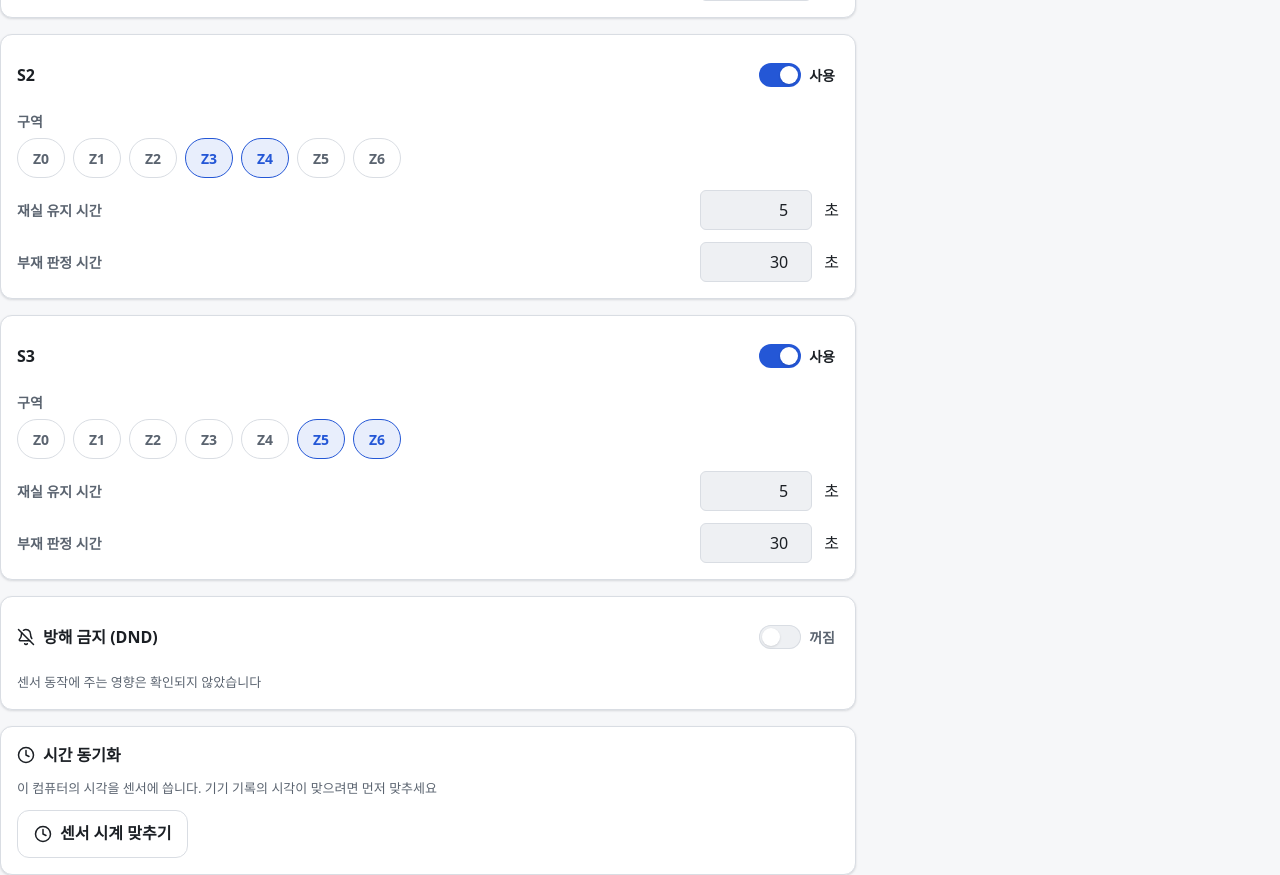
Test: AdvancedTab › time sync is an action: it posts and shows the result
This screenshot has width=1280, height=875.
(page scrolled)
Click the button "센서 시계 맞추기".
click(103, 834)  # box x1=17 y1=810 x2=188 y2=858
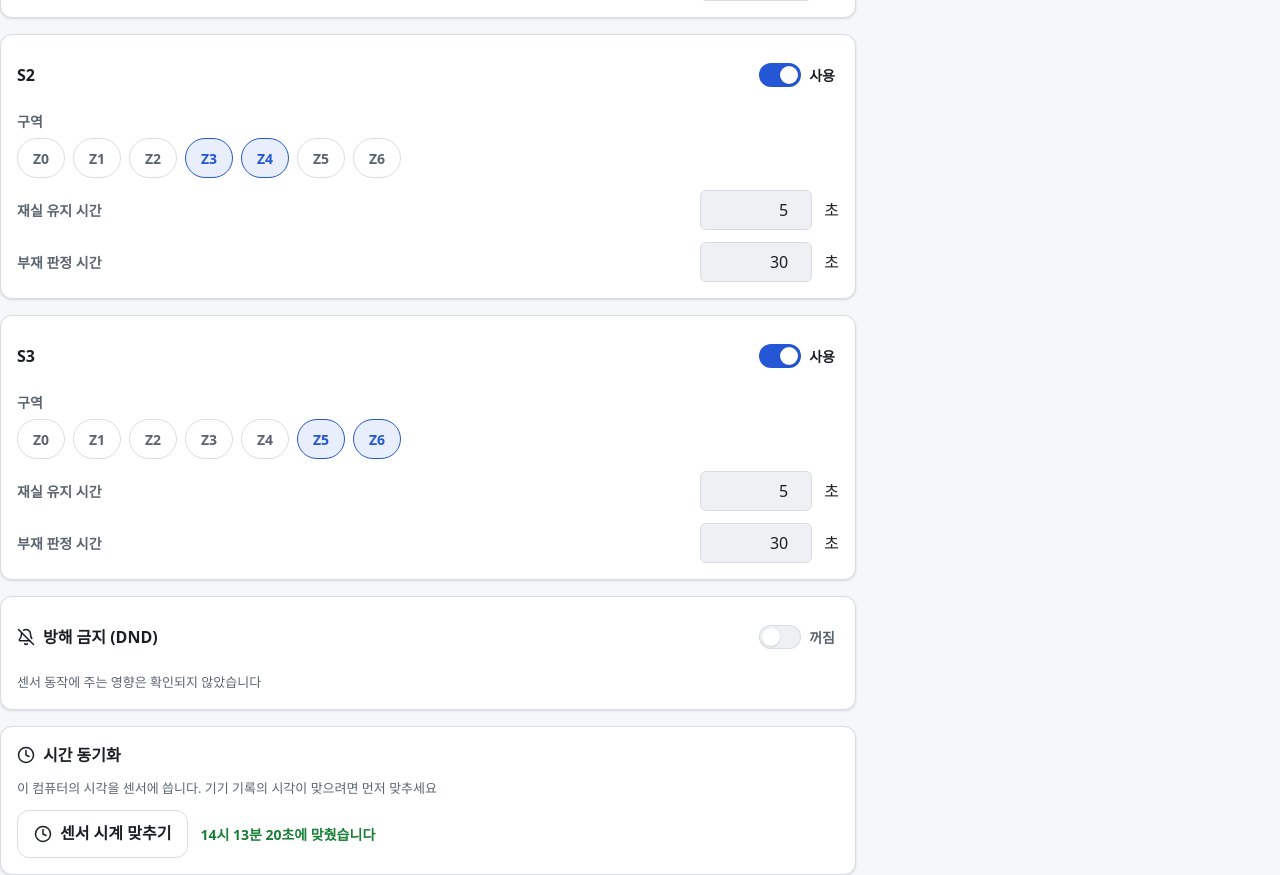
Now the text "에 맞췄습니다" is shown, box x1=200 y1=824 x2=375 y2=844
